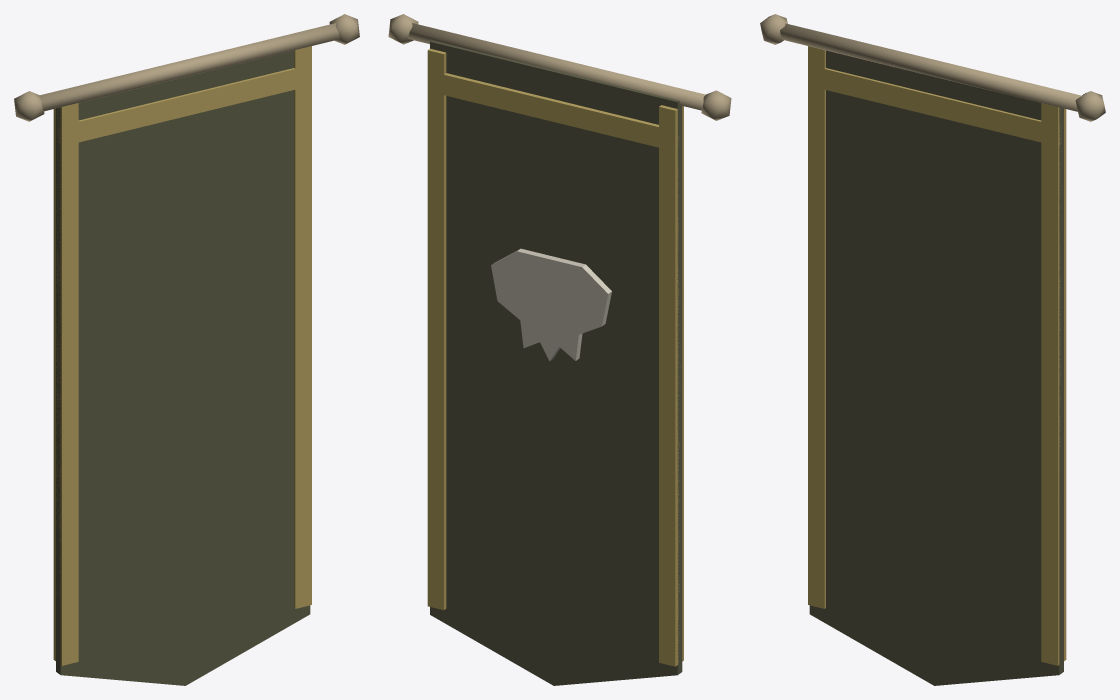
The model's file is skeleton_sniper_banner_v0.glb.
The picture shows the model from 3 angles, left to right: view 1: azimuth 30°, elevation 25°; view 2: azimuth 150°, elevation 25°; view 3: azimuth 330°, elevation 25°; orthographic projection.
Parts seen in each view (by area): view 1: skeleton_sniper_banner_v0; view 2: skeleton_sniper_banner_v0; view 3: skeleton_sniper_banner_v0.
Part boxes in pixels (left/top/right/bottom): skeleton_sniper_banner_v0: left=14, top=14, right=359, bottom=685; skeleton_sniper_banner_v0: left=388, top=14, right=731, bottom=685; skeleton_sniper_banner_v0: left=760, top=14, right=1105, bottom=685.
Bounding box in the file's own units: 1.04 × 1.84 × 0.0933.
